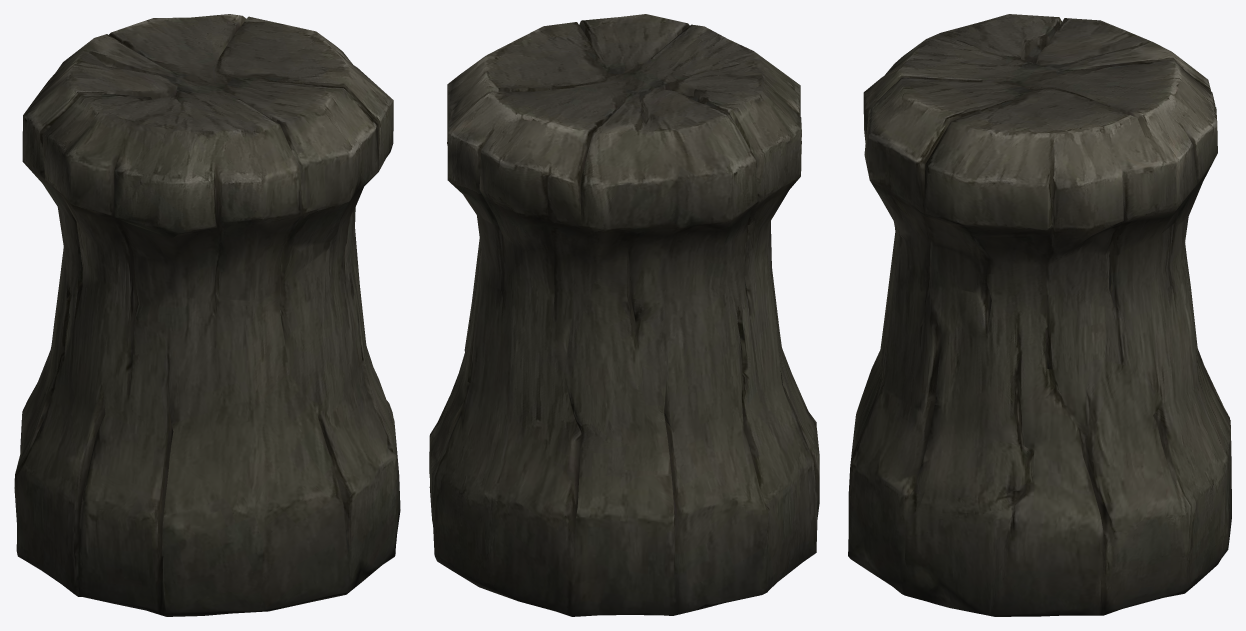
Rendered from stump_seat.glb.
The picture shows the model from 3 angles, left to right: view 1: azimuth 30°, elevation 25°; view 2: azimuth 150°, elevation 25°; view 3: azimuth 270°, elevation 25°; orthographic projection.
Parts seen in each view (by area): view 1: tripo_node_f8886810-2ea9-4fc5-b3a1-35cf50a9cc64; view 2: tripo_node_f8886810-2ea9-4fc5-b3a1-35cf50a9cc64; view 3: tripo_node_f8886810-2ea9-4fc5-b3a1-35cf50a9cc64.
Boxes of the visible parts, x1=… form: tripo_node_f8886810-2ea9-4fc5-b3a1-35cf50a9cc64: x1=14, y1=14, x2=400, y2=616; tripo_node_f8886810-2ea9-4fc5-b3a1-35cf50a9cc64: x1=429, y1=14, x2=819, y2=616; tripo_node_f8886810-2ea9-4fc5-b3a1-35cf50a9cc64: x1=848, y1=14, x2=1231, y2=616.
Size of the model in its own units: 0.7587 by 1 by 0.7499.
Materials: 1 (1 with a texture image).
